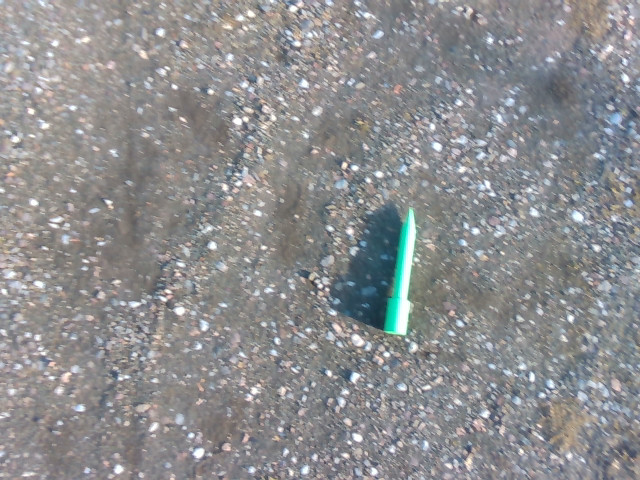Probe: (375, 201, 422, 341)
